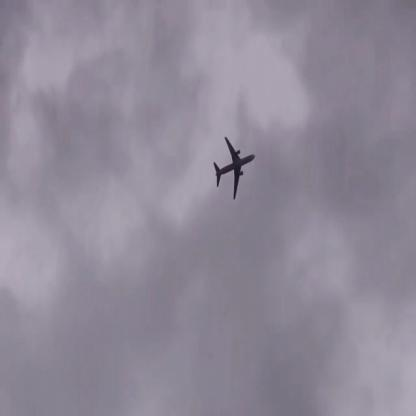CIV_Plane: (212, 137, 256, 200)
